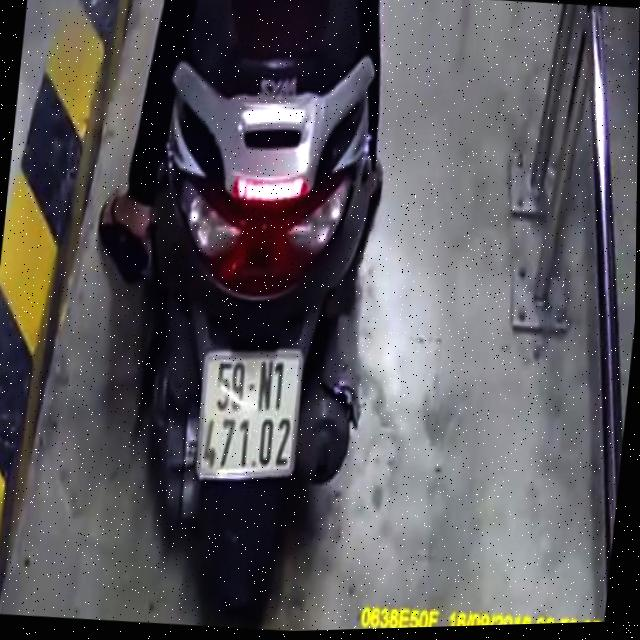motorcycle: (106, 0, 405, 637)
plate: (187, 341, 310, 490)
